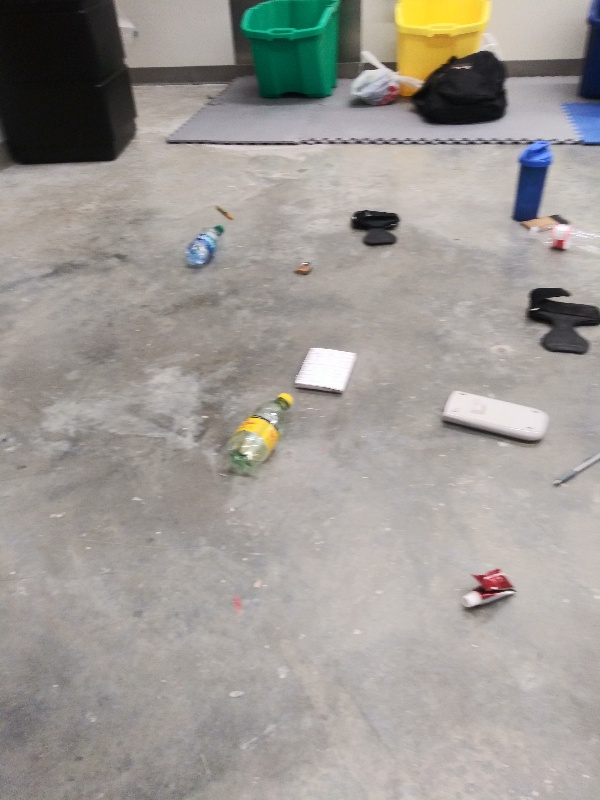bottle: (220, 389, 299, 478), (524, 222, 600, 265), (181, 220, 226, 272)
